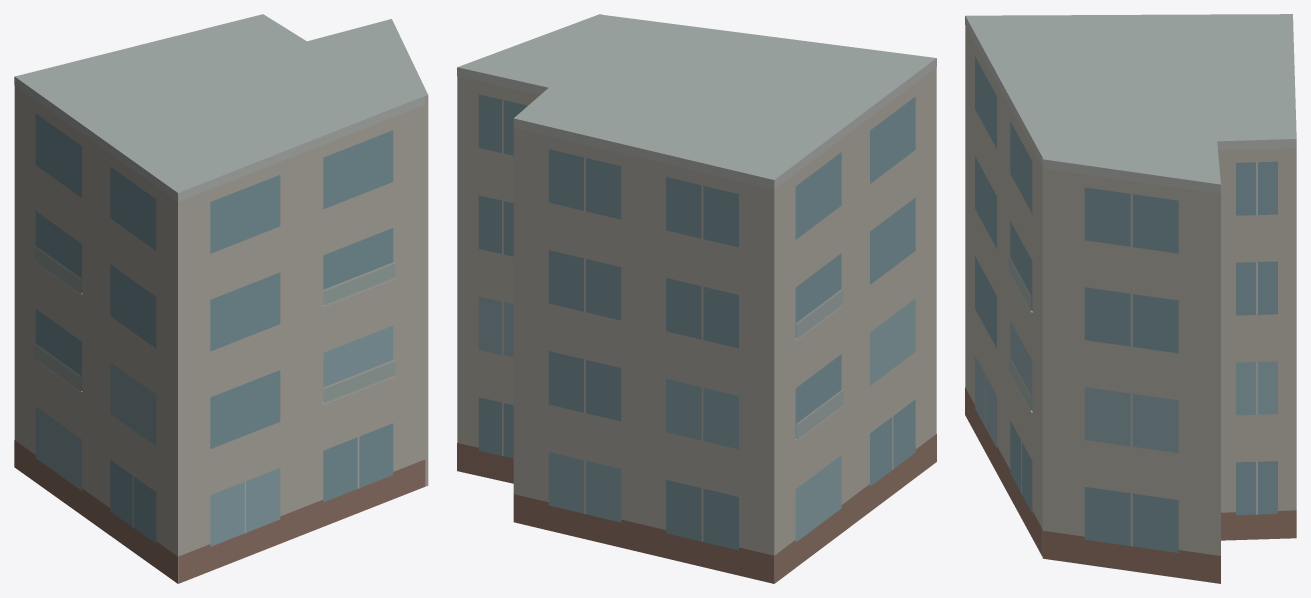
The model's file is survey-upis-32506892.glb.
3 renders of one model, left to right at view 1: azimuth 30°, elevation 25°; view 2: azimuth 150°, elevation 25°; view 3: azimuth 270°, elevation 25°, orthographic. The views are drawn at different scales.
Parts seen in each view (by area): view 1: survey-upis-32506892.tmp; view 2: survey-upis-32506892.tmp; view 3: survey-upis-32506892.tmp.
Part boxes in pixels (x1,y1,x2,y2): survey-upis-32506892.tmp: [14, 14, 428, 583]; survey-upis-32506892.tmp: [457, 14, 936, 583]; survey-upis-32506892.tmp: [965, 14, 1296, 583].
Size of the model in its own units: 9.8 by 10.66 by 8.03.
